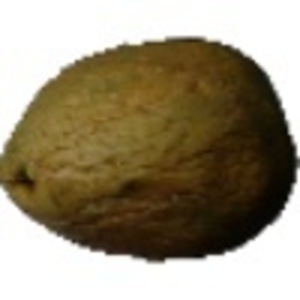mamão: (2, 47, 297, 259)
